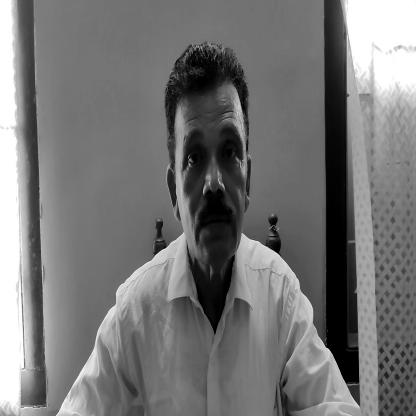Normal: (163, 47, 253, 281)
